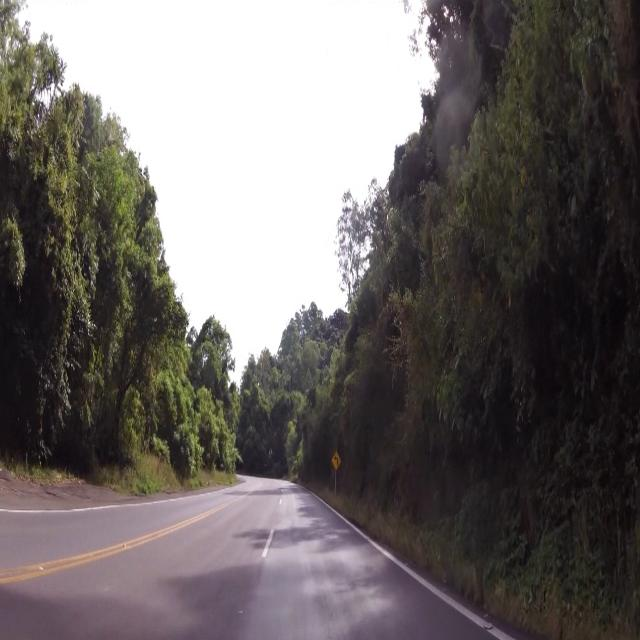A-1a: (330, 447, 346, 471)
